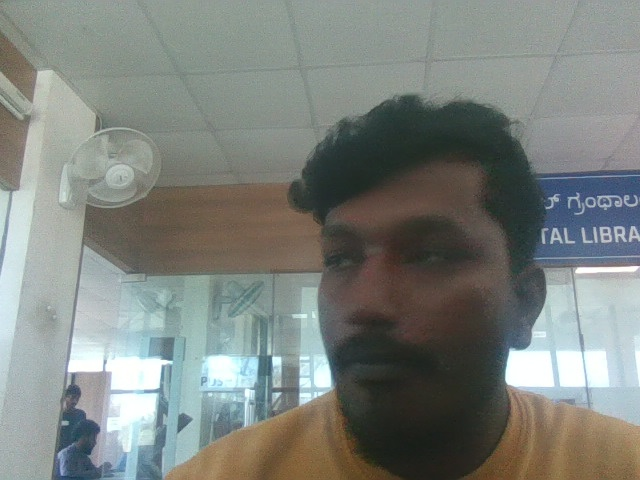real: (290, 66, 549, 433)
